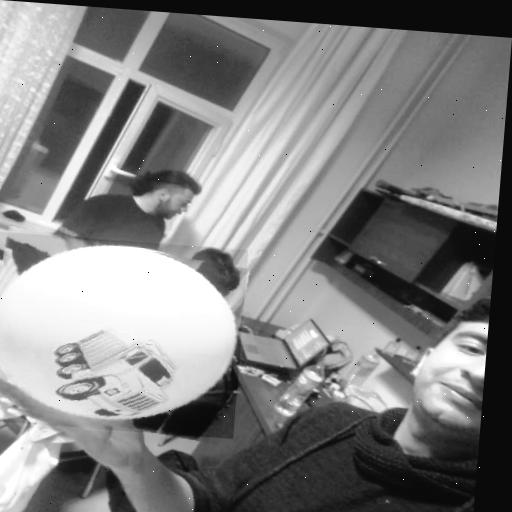balloon: (0, 234, 246, 425)
